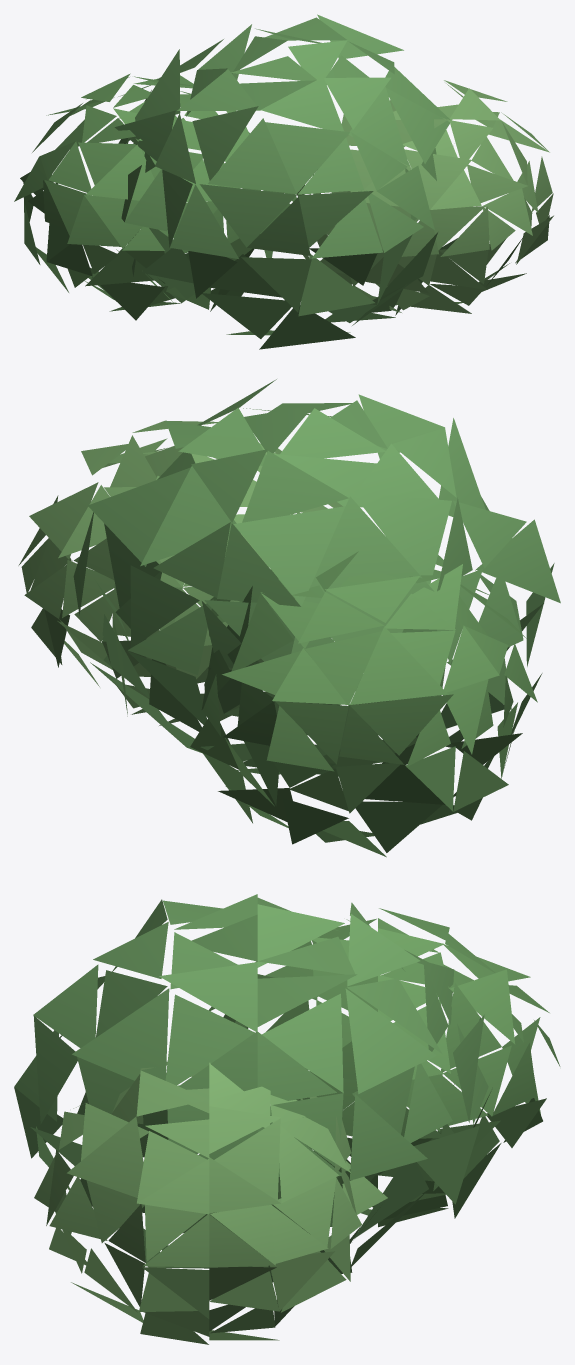
The model's file is bush.glb.
The picture shows the model from 3 angles, top to bottom: view 1: azimuth 30°, elevation 25°; view 2: azimuth 150°, elevation 25°; view 3: azimuth 270°, elevation 25°; orthographic projection. The views are drawn at different scales.
Visible parts, largest first — view 1: bush; view 2: bush; view 3: bush.
Boxes of the visible parts, <box> form: bush: <box>14,14,553,349</box>; bush: <box>18,379,560,857</box>; bush: <box>14,894,560,1344</box>.
Size of the model in its own units: 1.61 by 0.9996 by 1.36.
